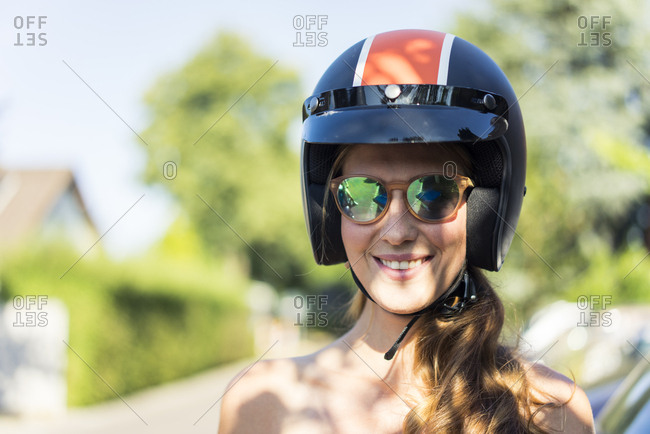helmet: (302, 30, 526, 313)
